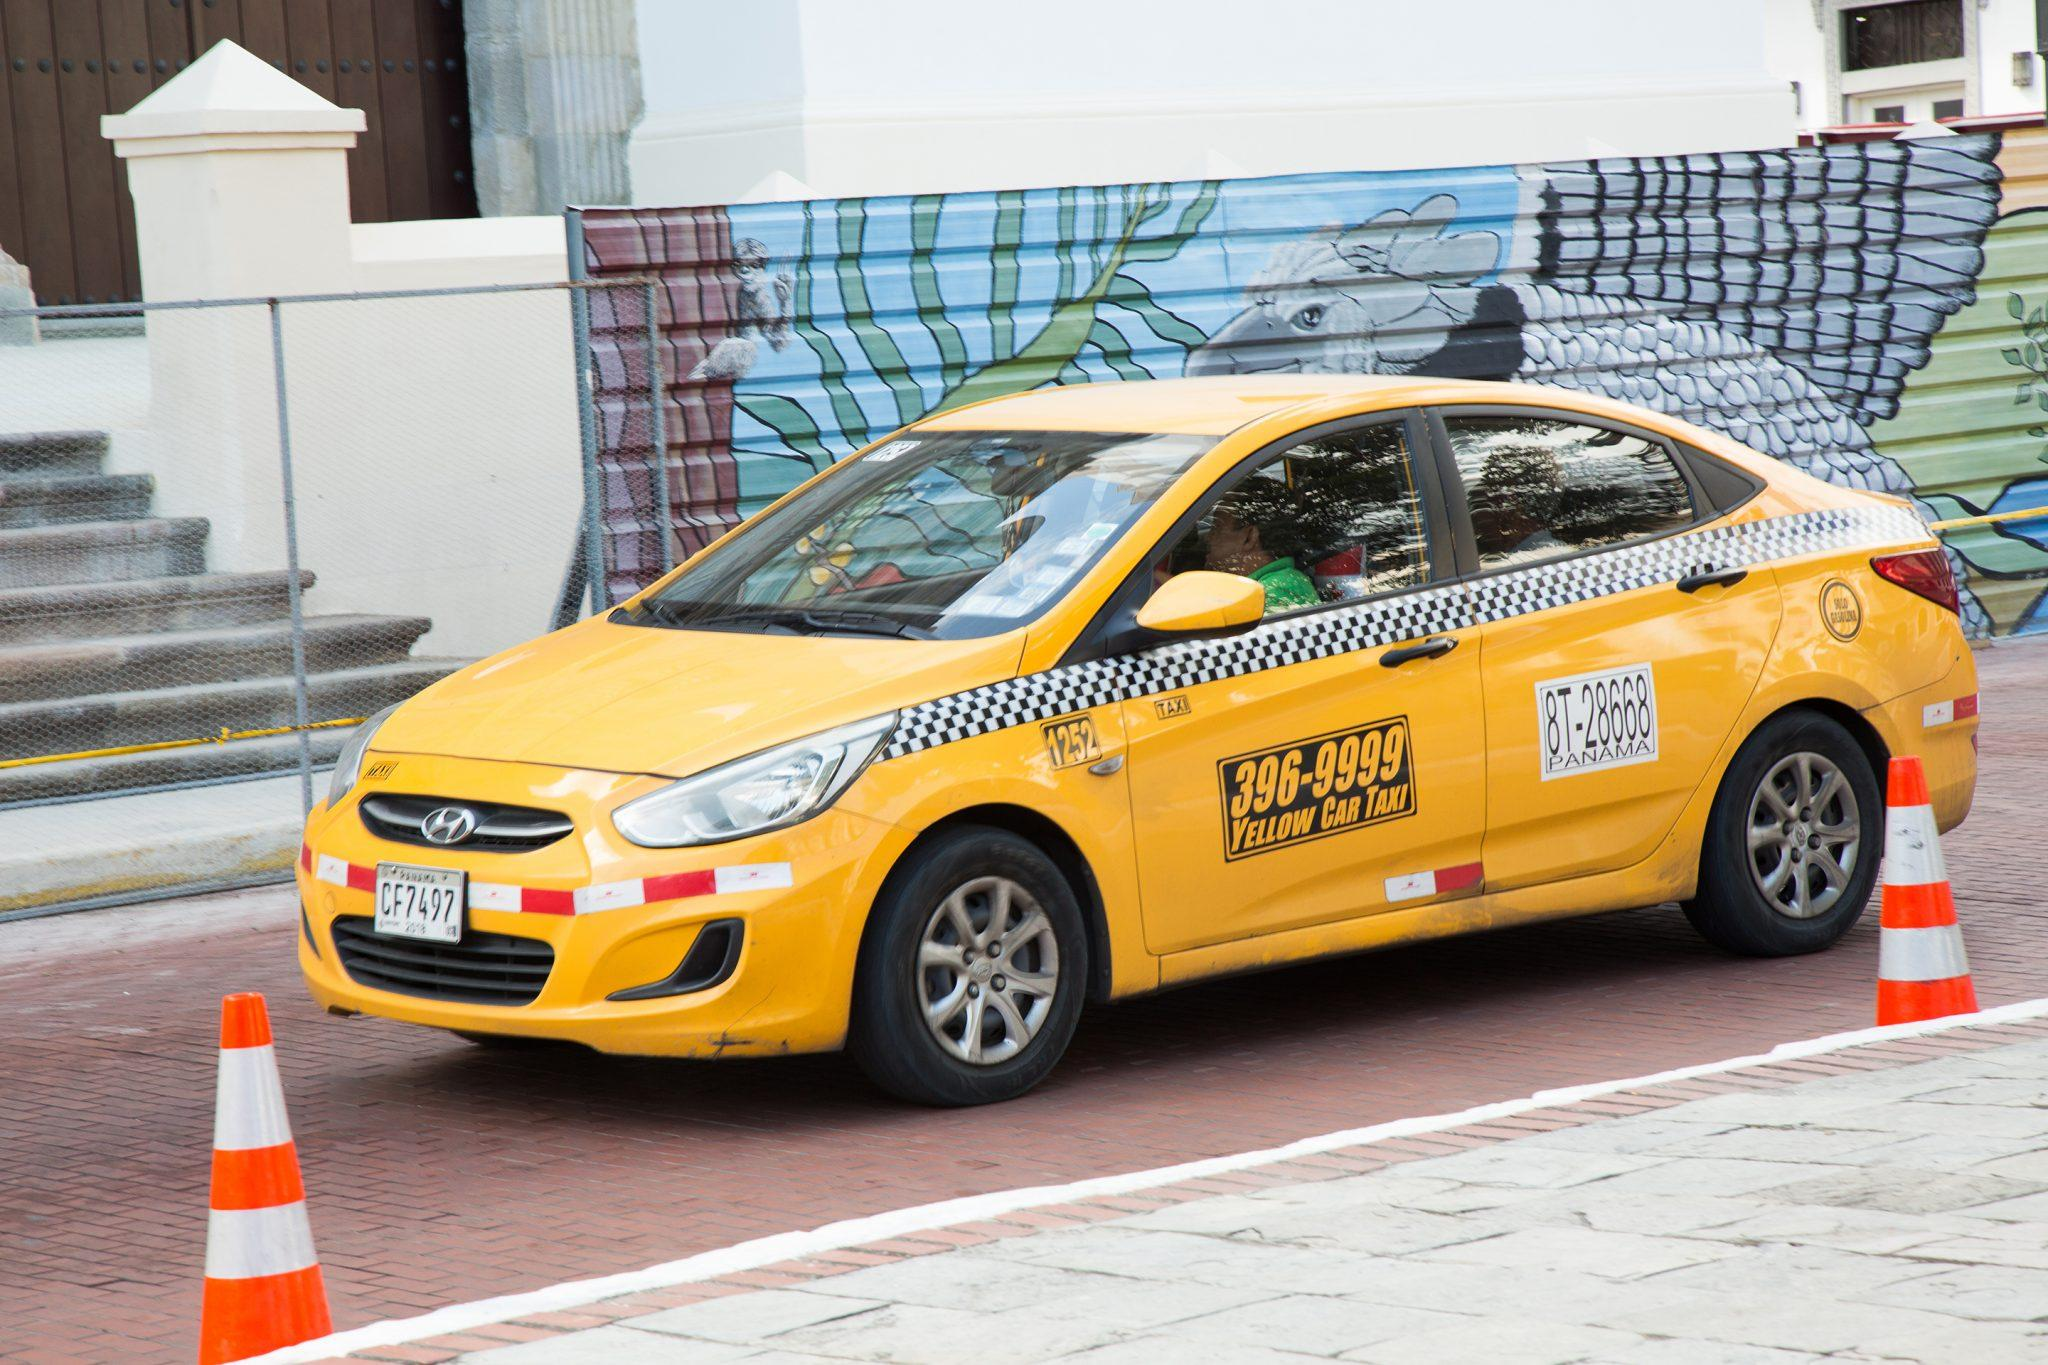taxi: (361, 311, 1852, 1031)
